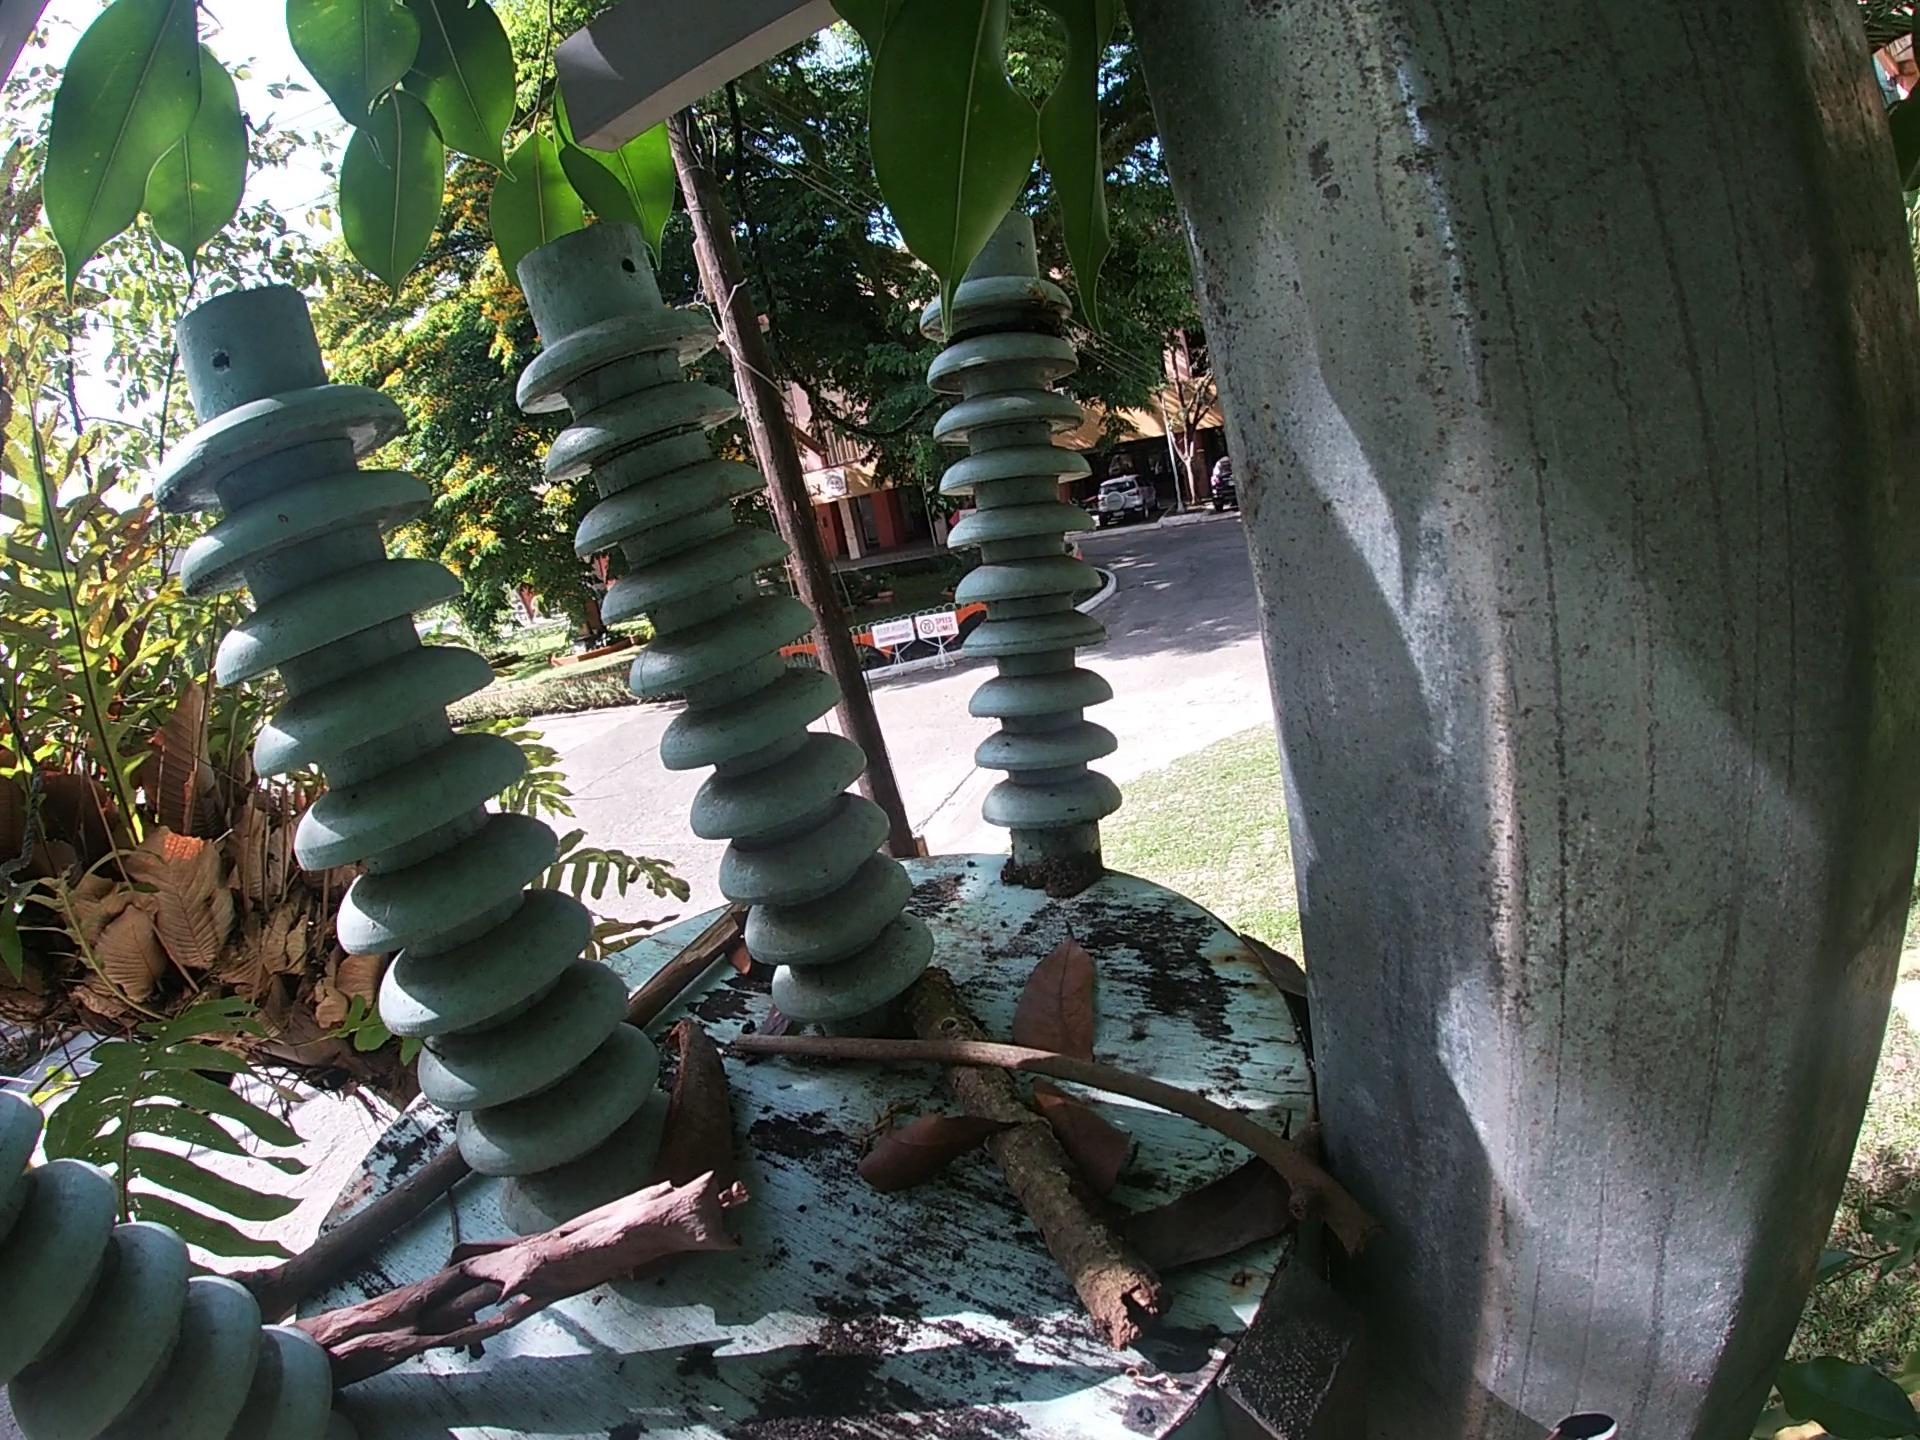leaf: (1119, 1101, 1306, 1275), (853, 1097, 1020, 1209), (1030, 1072, 1140, 1204), (1017, 926, 1110, 1069)
mahogany fruit: (641, 1015, 745, 1187), (721, 902, 770, 976)
tree branch: (721, 1021, 1391, 1262), (280, 1165, 751, 1396), (897, 967, 1172, 1361), (212, 1128, 475, 1319), (629, 895, 760, 1030)
